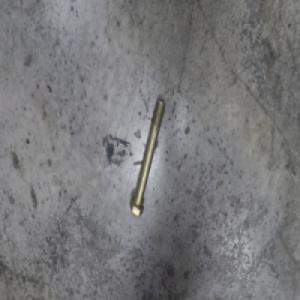Bolt: (129, 99, 167, 215)
